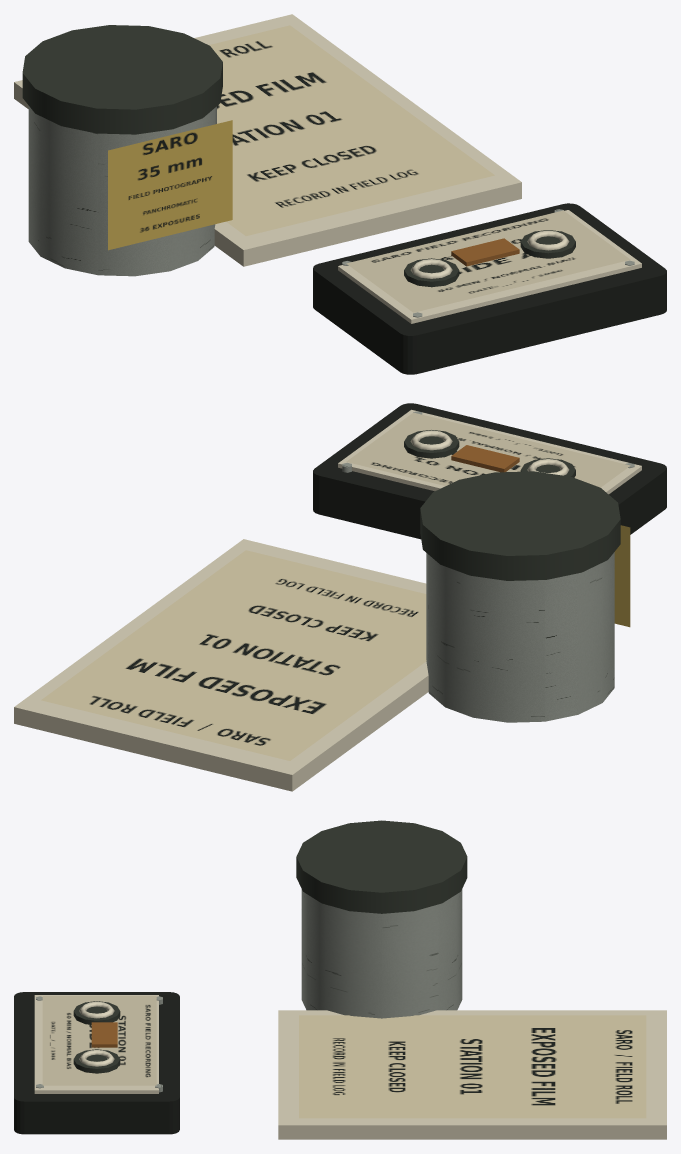
The model's file is SM_FieldKit_EvidenceProps.glb.
3 renders of one model, top to bottom at view 1: azimuth 30°, elevation 25°; view 2: azimuth 150°, elevation 25°; view 3: azimuth 270°, elevation 25°, orthographic. The views are drawn at different scales.
Parts seen in each view (by area): view 1: SM_FieldKit_EvidenceProps; view 2: SM_FieldKit_EvidenceProps; view 3: SM_FieldKit_EvidenceProps.
Boxes of the visible parts, x1,y1,x2,y2 form: SM_FieldKit_EvidenceProps: (14, 14, 666, 374); SM_FieldKit_EvidenceProps: (14, 403, 666, 791); SM_FieldKit_EvidenceProps: (14, 820, 666, 1139).
Bounding box in the file's own units: 0.1605 × 0.061 × 0.252.
Materials: 6 (2 with a texture image).
